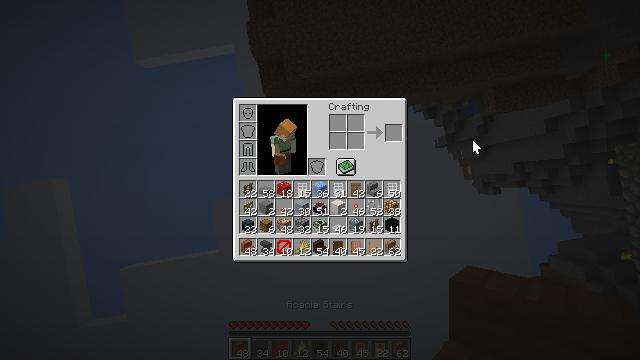cursor: (472, 139, 482, 155)
